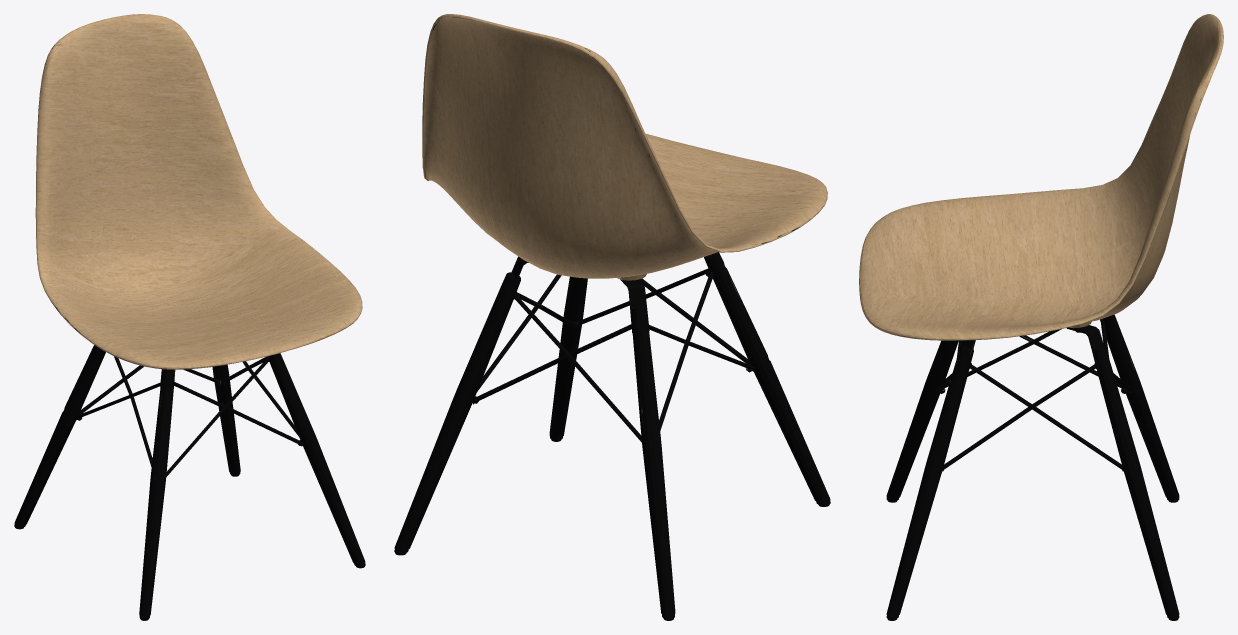
File: midcentury2.glb
3 views of the same model, side by side, from view 1: azimuth 30°, elevation 25°; view 2: azimuth 150°, elevation 25°; view 3: azimuth 270°, elevation 25° (orthographic). The views are drawn at different scales.
Visible parts, largest first — view 1: 72VITRA_CLASSIC_D3_DSW_BASE_WOOD_001.005_Mesh.035; view 2: 72VITRA_CLASSIC_D3_DSW_BASE_WOOD_001.005_Mesh.035; view 3: 72VITRA_CLASSIC_D3_DSW_BASE_WOOD_001.005_Mesh.035.
Part boxes in pixels (x1,y1,x2,y2): 72VITRA_CLASSIC_D3_DSW_BASE_WOOD_001.005_Mesh.035: (14, 14, 365, 620); 72VITRA_CLASSIC_D3_DSW_BASE_WOOD_001.005_Mesh.035: (394, 14, 830, 620); 72VITRA_CLASSIC_D3_DSW_BASE_WOOD_001.005_Mesh.035: (859, 14, 1223, 620).
Bounding box in the file's own units: 3.09 × 5.3 × 3.35.
1 material, 1 textured.
